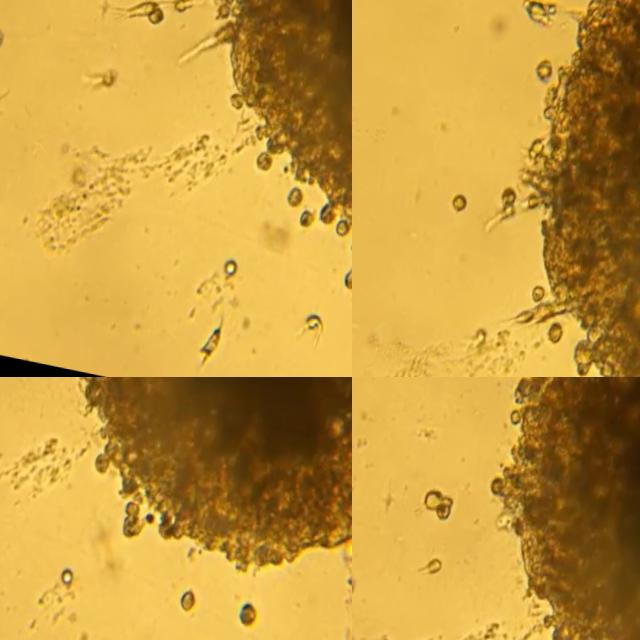cell: (490, 198, 517, 226), (212, 324, 230, 353), (528, 0, 550, 23), (426, 489, 454, 507), (245, 591, 264, 616), (289, 179, 308, 200), (312, 307, 331, 326), (452, 189, 470, 209), (536, 54, 553, 75), (186, 583, 203, 601), (131, 0, 158, 11), (303, 202, 319, 220), (502, 184, 518, 202), (150, 2, 167, 18), (438, 497, 454, 514), (552, 319, 567, 337), (426, 555, 444, 570), (478, 323, 492, 342), (229, 254, 243, 270), (67, 561, 79, 579), (0, 25, 8, 50), (537, 279, 548, 296), (176, 0, 194, 8), (546, 0, 559, 10)
tumor_mass: (83, 377, 352, 566), (493, 377, 640, 640)
